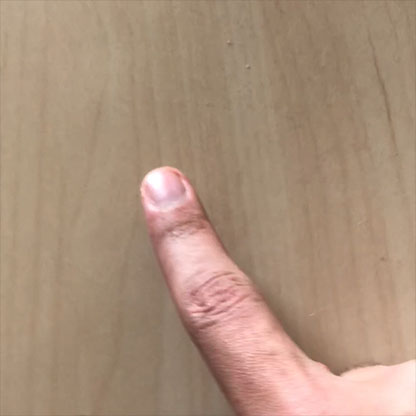fingertip: (137, 158, 203, 222)
